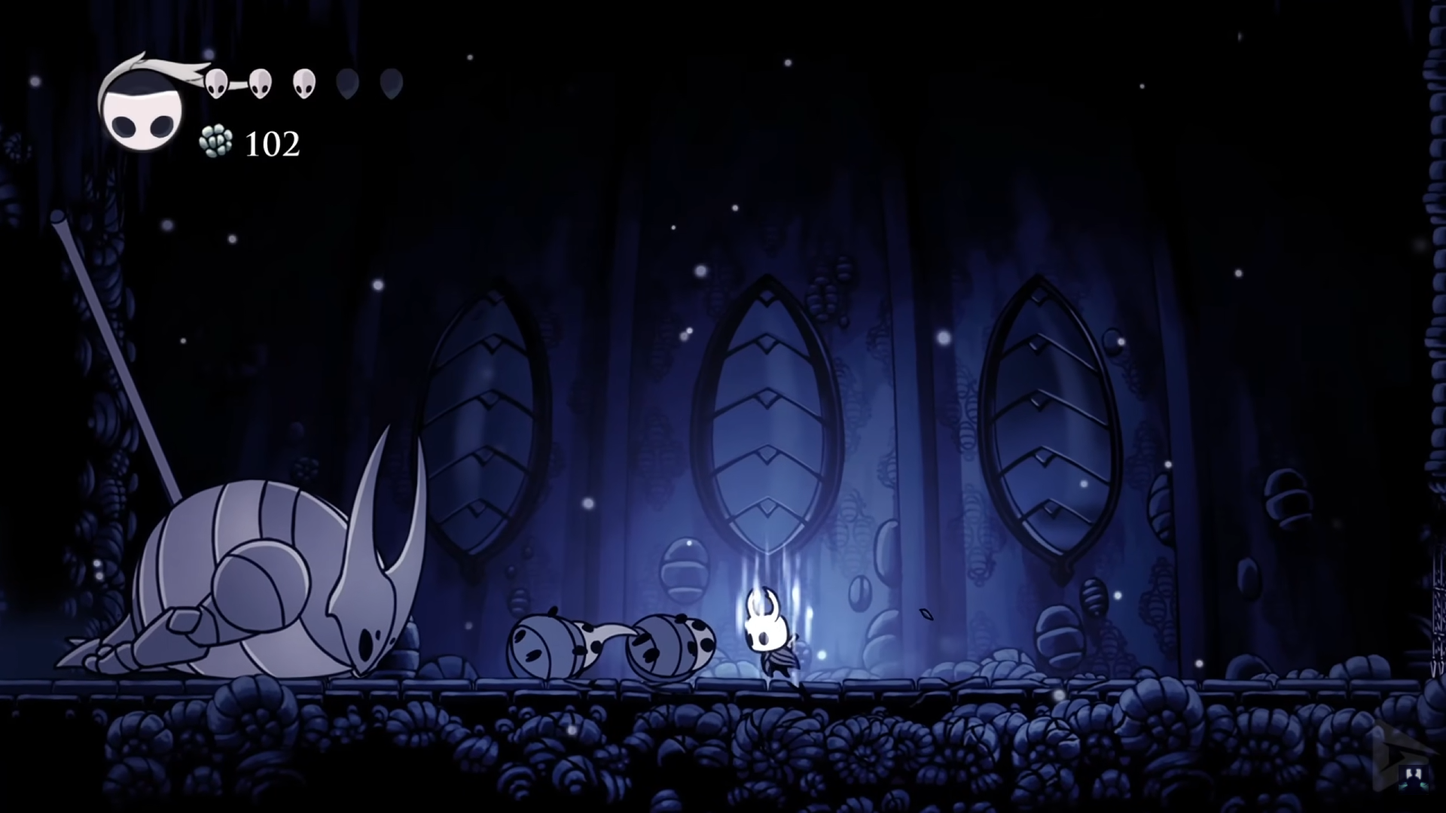HK: (736, 580, 800, 687)
